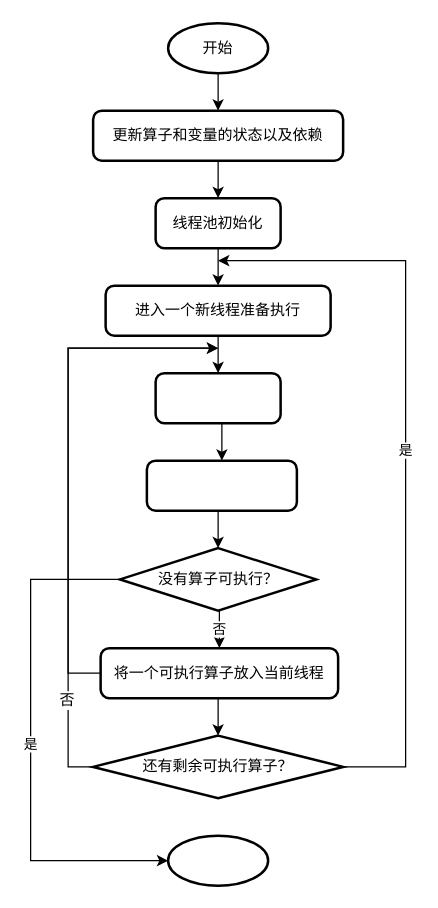
The diagram is 438 pixels wide and 908 high, and some of its shapes have lost their labels. The shapes that lost their labels are listed below. From the top down, each one's centre as x and y in pixels, then its label:
the point at 217,397: 执行算子
the point at 221,485: 更新变量状态与剩余算子可执行状态
the point at 217,860: 结束
